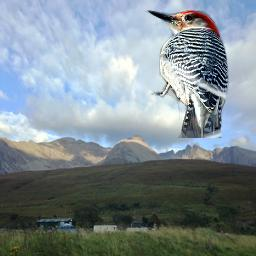Woodpecker: (142, 3, 233, 138)
